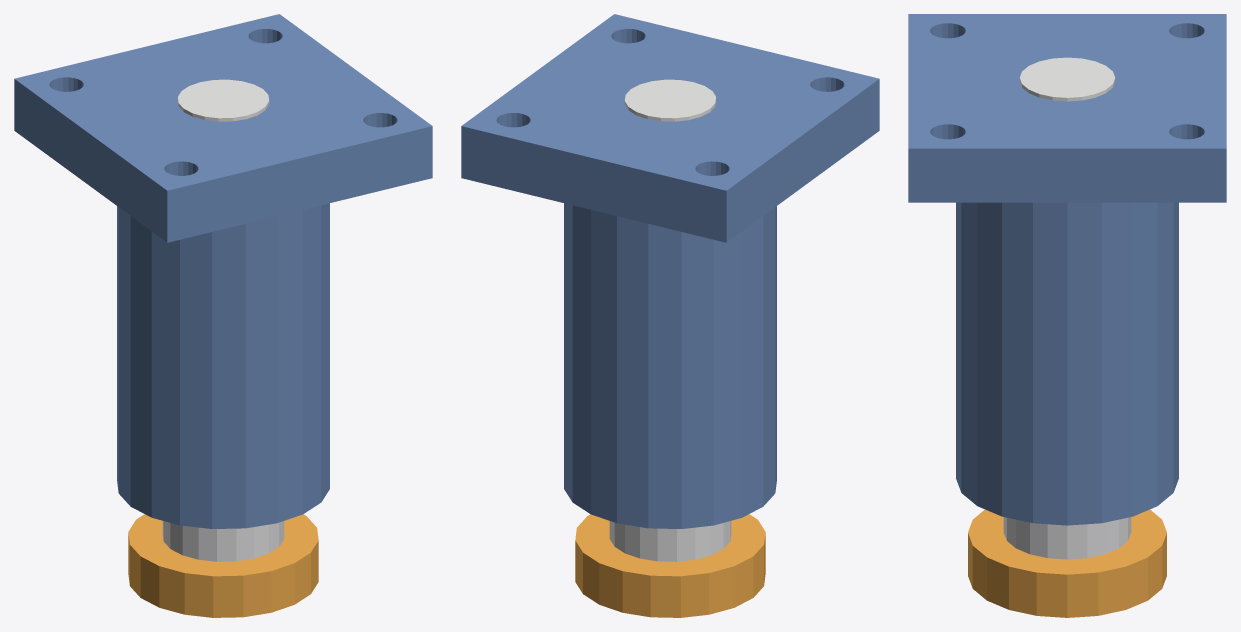
Rendered from hold-down.glb.
The picture shows the model from 3 angles, left to right: view 1: azimuth 30°, elevation 25°; view 2: azimuth 150°, elevation 25°; view 3: azimuth 270°, elevation 25°; orthographic projection. The views are drawn at different scales.
Parts seen in each view (by area): view 1: body, plunger, port-cap; view 2: body, plunger, port-cap; view 3: body, plunger, port-cap.
Part boxes in pixels (left/top/right/bottom): body: left=14, top=14, right=432, bottom=528; plunger: left=128, top=514, right=318, bottom=617; port-cap: left=177, top=79, right=269, bottom=121; body: left=461, top=14, right=879, bottom=528; plunger: left=575, top=514, right=765, bottom=617; port-cap: left=624, top=79, right=716, bottom=121; body: left=908, top=14, right=1226, bottom=525; plunger: left=968, top=509, right=1166, bottom=617; port-cap: left=1019, top=57, right=1115, bottom=101.
Size of what is drawn, in the model's own units: 0.08 by 0.138 by 0.08.
